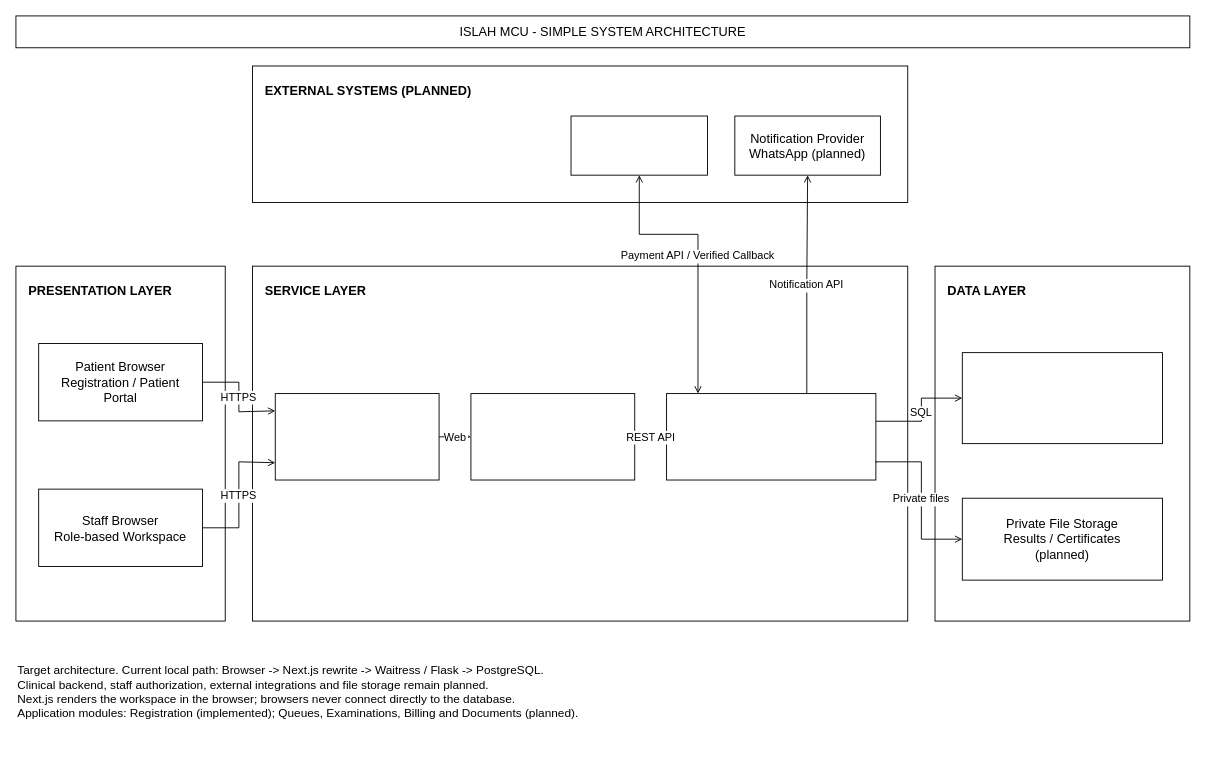
Some shapes in this 1206 by 778 pixel diagram are drawn without their labels. Each missing label, with the centre of its shape:
Flask REST API Modular Application Waitress: [771,436]
HTTPS Entry Point Reverse Proxy / Load Balancer (planned): [356,436]
Next.js Frontend Patient / Staff Portals: [552,436]
Payment Gateway Provider TBD: [639,145]
PostgreSQL Registration / Capacity Clinical Records (planned): [1062,398]
